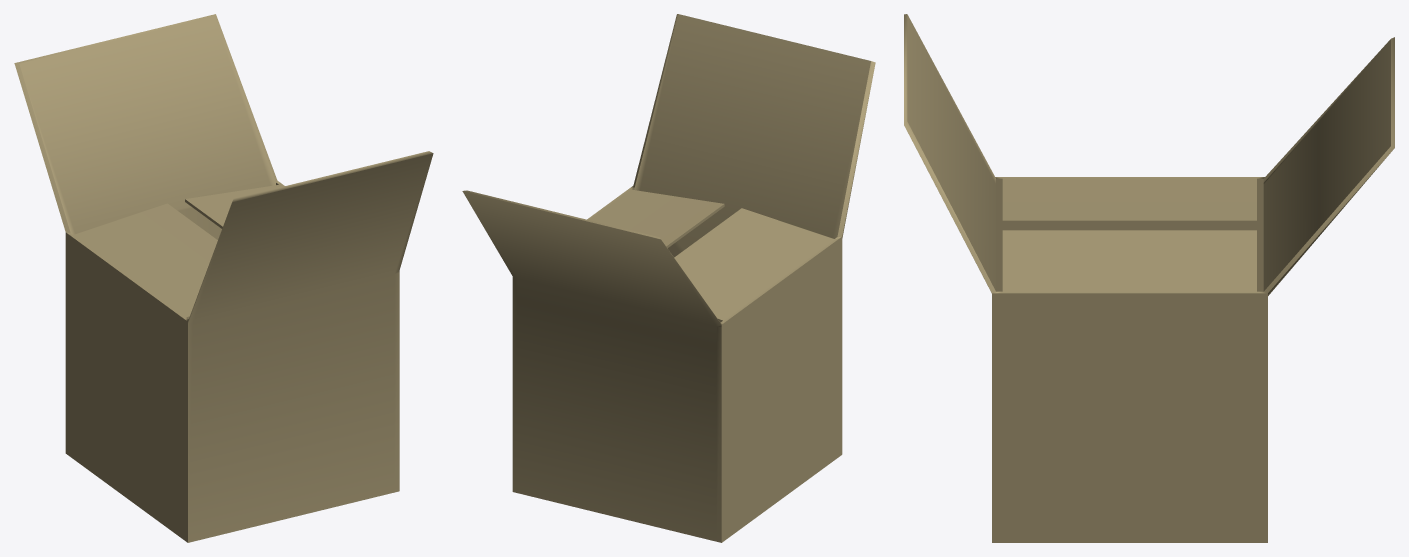
File: PS_CardboardBox4_14_DF.fbx
The picture shows the model from 3 angles, left to right: view 1: azimuth 30°, elevation 25°; view 2: azimuth 150°, elevation 25°; view 3: azimuth 270°, elevation 25°; orthographic projection. The views are drawn at different scales.
Parts seen in each view (by area): view 1: Carboardbox4; view 2: Carboardbox4; view 3: Carboardbox4.
Part boxes in pixels (x1,y1,x2,y2): Carboardbox4: [14, 14, 433, 542]; Carboardbox4: [462, 14, 875, 542]; Carboardbox4: [904, 14, 1394, 542].
Bounding box in the file's own units: 0.2327 × 0.3882 × 0.4142.
